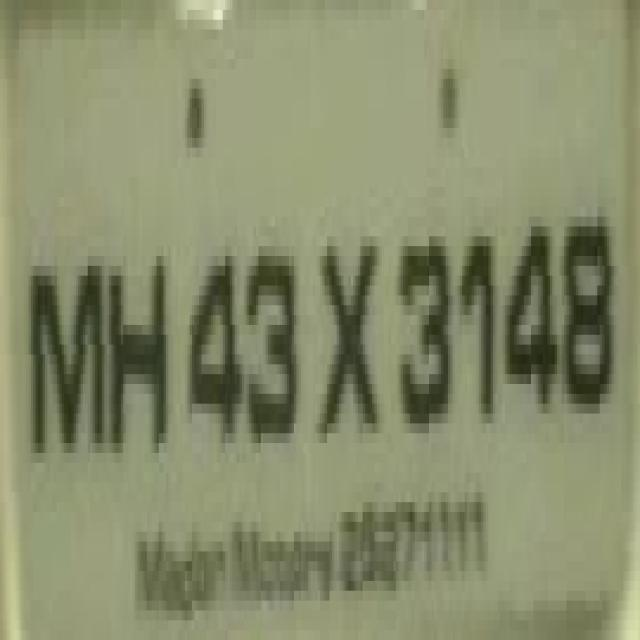license_plate: (21, 9, 640, 600)
